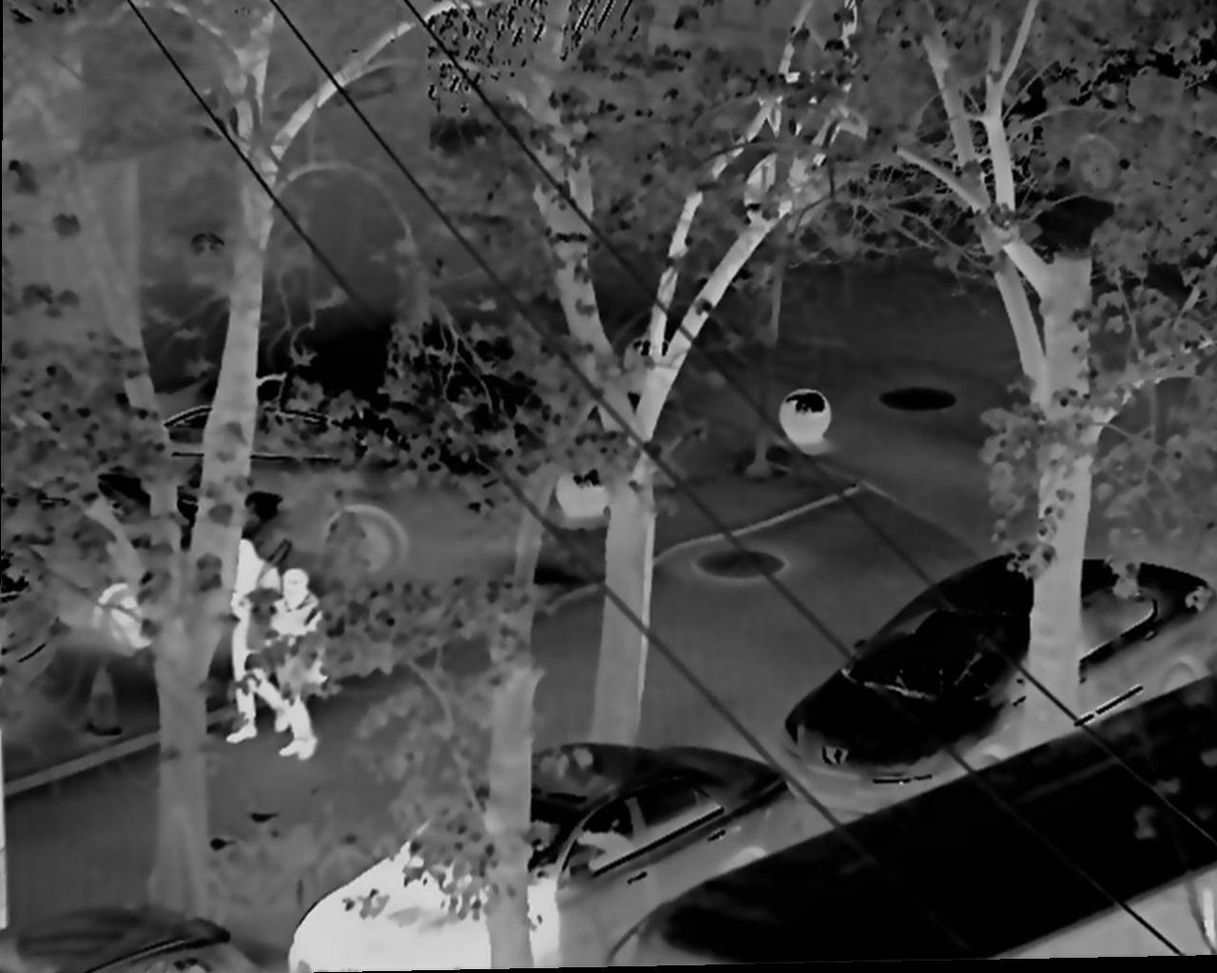person: (232, 540, 283, 737), (274, 569, 322, 761)
